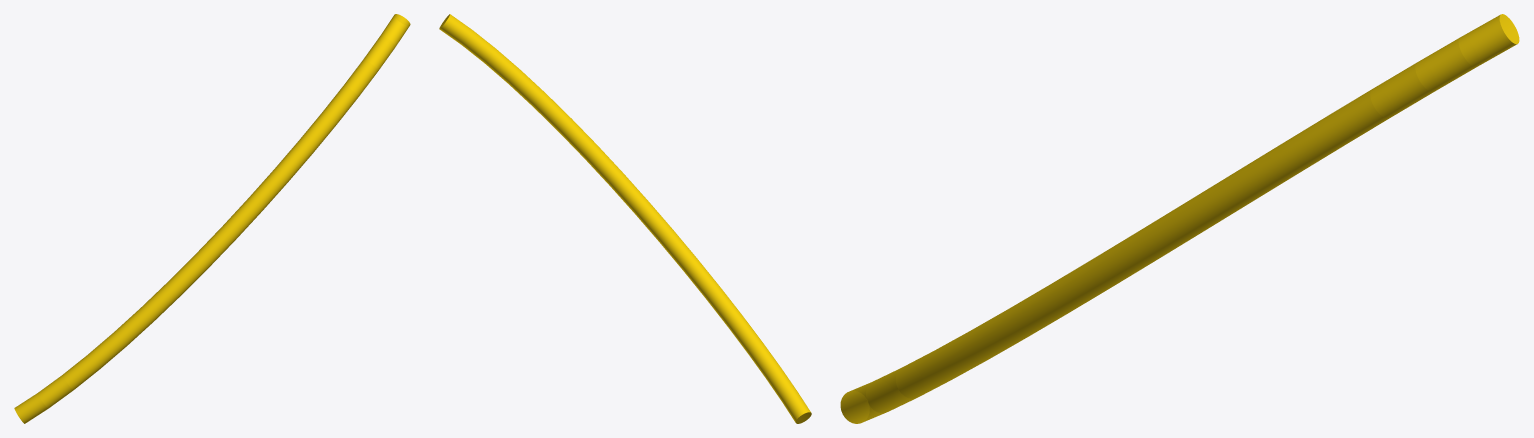
File: Event_420094457_track_58.fbx
The picture shows the model from 3 angles, left to right: view 1: azimuth 30°, elevation 25°; view 2: azimuth 150°, elevation 25°; view 3: azimuth 330°, elevation 25°; orthographic projection. The views are drawn at different scales.
Visible parts, largest first — view 1: Model; view 2: Model; view 3: Model.
Part boxes in pixels (x1,y1,x2,y2): Model: [14, 14, 410, 423]; Model: [439, 14, 811, 423]; Model: [840, 14, 1519, 423].
Size of the model in its own units: 0.9299 by 0.7462 by 0.1318.
